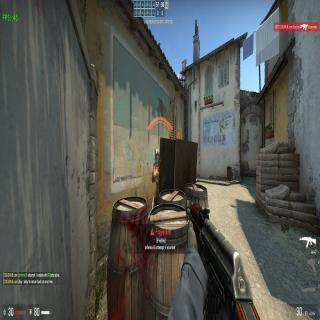CT-Body: (152, 148, 159, 206)
CT-Head: (155, 149, 160, 170)
